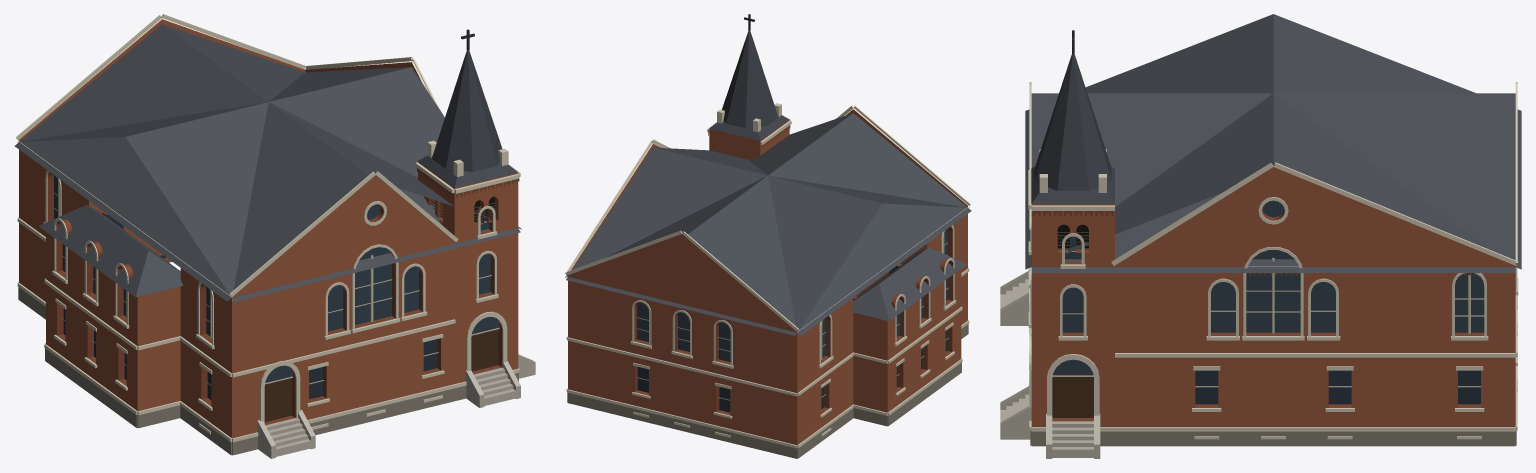
Rendered from ch-wesley-chapel-1913.glb.
3 renders of one model, left to right at view 1: azimuth 30°, elevation 25°; view 2: azimuth 150°, elevation 25°; view 3: azimuth 270°, elevation 25°, orthographic. The views are drawn at different scales.
Visible parts, largest first — view 1: ch_roof, ch_brick, ch_trim, ch_brick2, ch_roof2, ch_stain, ch_base, ch_conc, ch_door, ch_glass; view 2: ch_roof, ch_brick, ch_trim, ch_base, ch_roof2, ch_brick2, ch_stain, ch_glass; view 3: ch_brick, ch_roof, ch_trim, ch_stain, ch_roof2, ch_base, ch_conc, ch_glass, ch_brick2, ch_door, ch_lead.
Boxes of the visible parts, x1,y1,x2,y2 form: ch_roof: (14, 24, 522, 301); ch_brick: (19, 19, 518, 438); ch_trim: (16, 14, 520, 442); ch_brick2: (47, 168, 519, 425); ch_roof2: (418, 50, 517, 187); ch_stain: (54, 175, 499, 382); ch_base: (18, 287, 518, 455); ch_conc: (257, 354, 535, 458); ch_door: (264, 329, 498, 421); ch_glass: (63, 214, 437, 399); ch_roof: (565, 113, 971, 335); ch_brick: (568, 109, 967, 445); ch_trim: (565, 103, 970, 448); ch_base: (567, 324, 968, 458); ch_roof2: (709, 30, 789, 140); ch_brick2: (634, 125, 952, 415); ch_stain: (637, 229, 947, 361); ch_glass: (637, 266, 947, 412); ch_brick: (1031, 167, 1515, 426); ch_roof: (1025, 14, 1521, 272); ch_trim: (1028, 82, 1518, 439); ch_stain: (1053, 200, 1484, 375); ch_roof2: (1031, 54, 1114, 203); ch_base: (1030, 430, 1516, 446); ch_conc: (1000, 271, 1100, 458); ch_glass: (1195, 370, 1480, 404); ch_brick2: (1032, 209, 1484, 421); ch_door: (1052, 377, 1093, 417); ch_lead: (1062, 251, 1484, 387).
Bounding box in the file's own units: 22.5 × 21.01 × 25.
